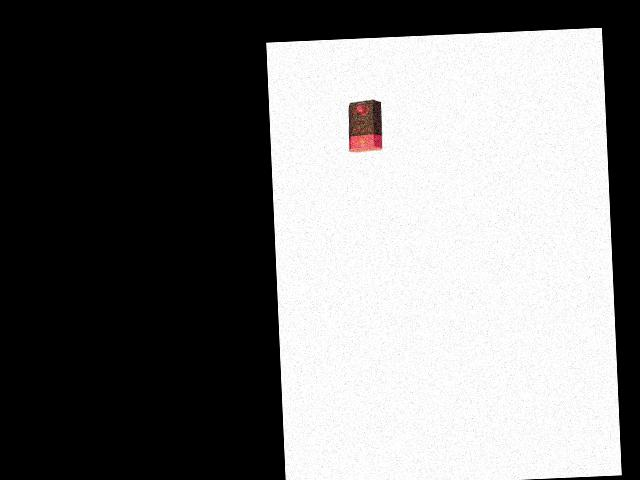chocolate: (346, 94, 384, 154)
